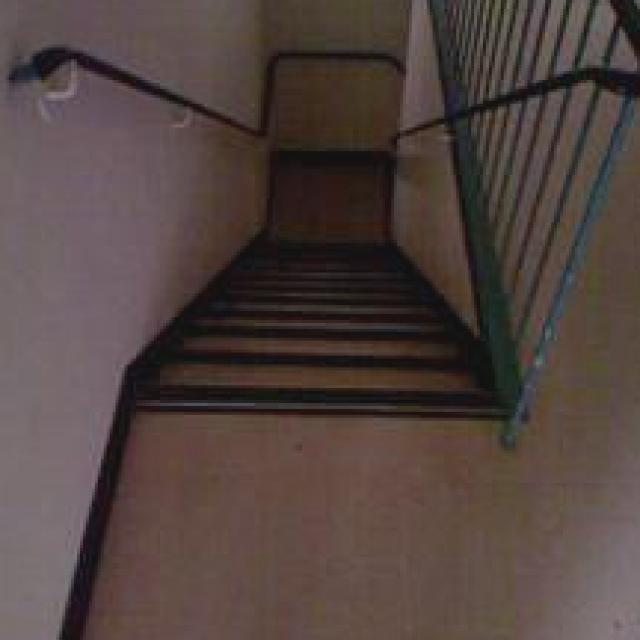downstair: (105, 253, 534, 460)
